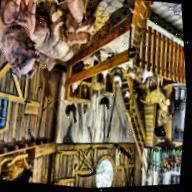boar: (0, 0, 104, 91)
